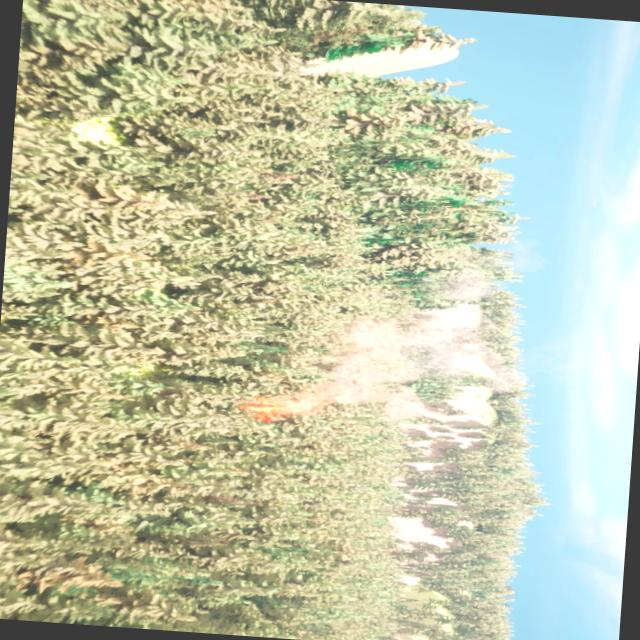fire: (238, 382, 334, 424)
smoke: (312, 298, 512, 412)
